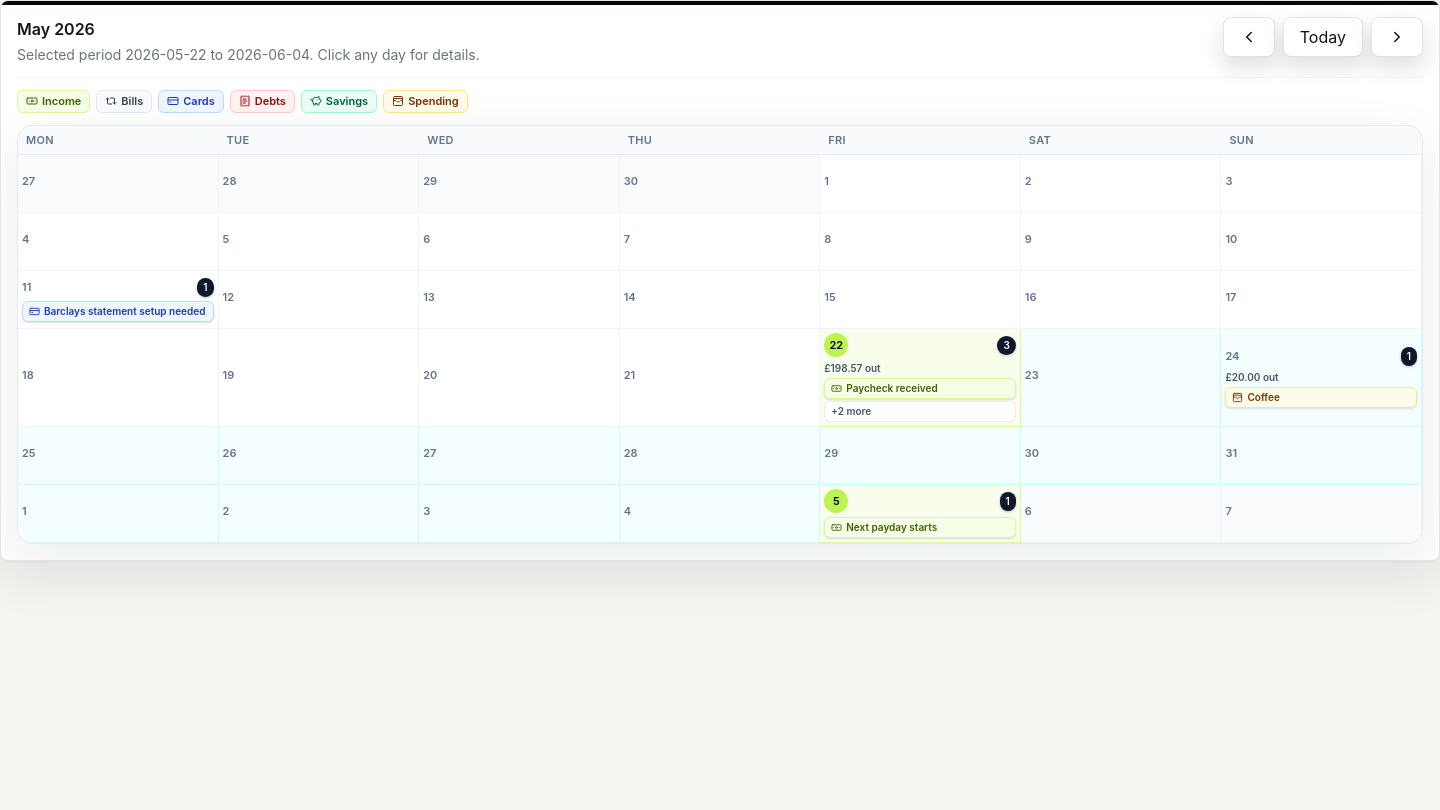
Test: calendar page › shows later card spend as its own calendar event after linked card cover is completed
Step 1. Click the button with aria-label "Open 24 May 2026" → [1322, 378], box [1221,329,1422,427]
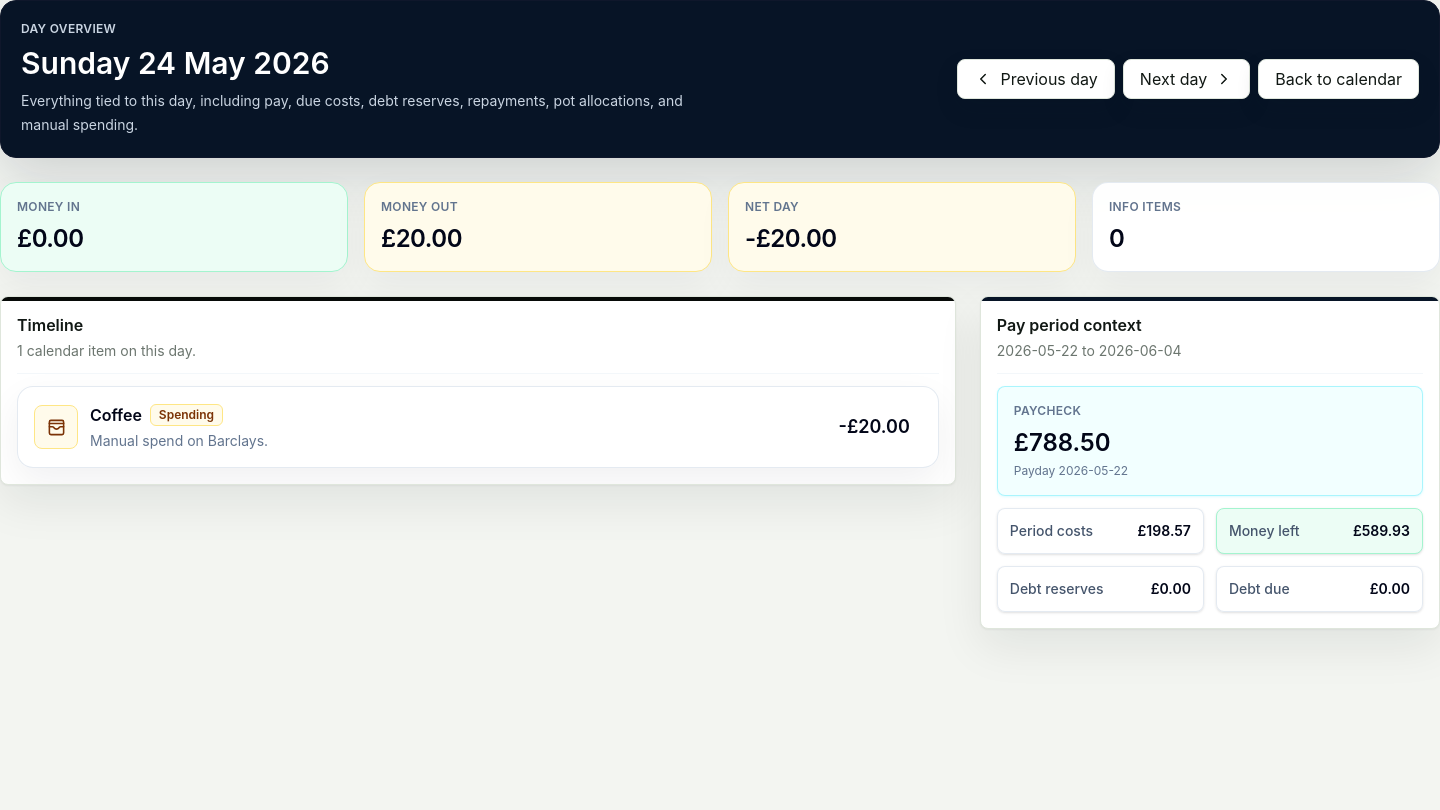
Expected: the heading "Coffee" is shown, [90,403,142,427]
Expected: the text "£20.00" is shown, [381,224,462,253]
